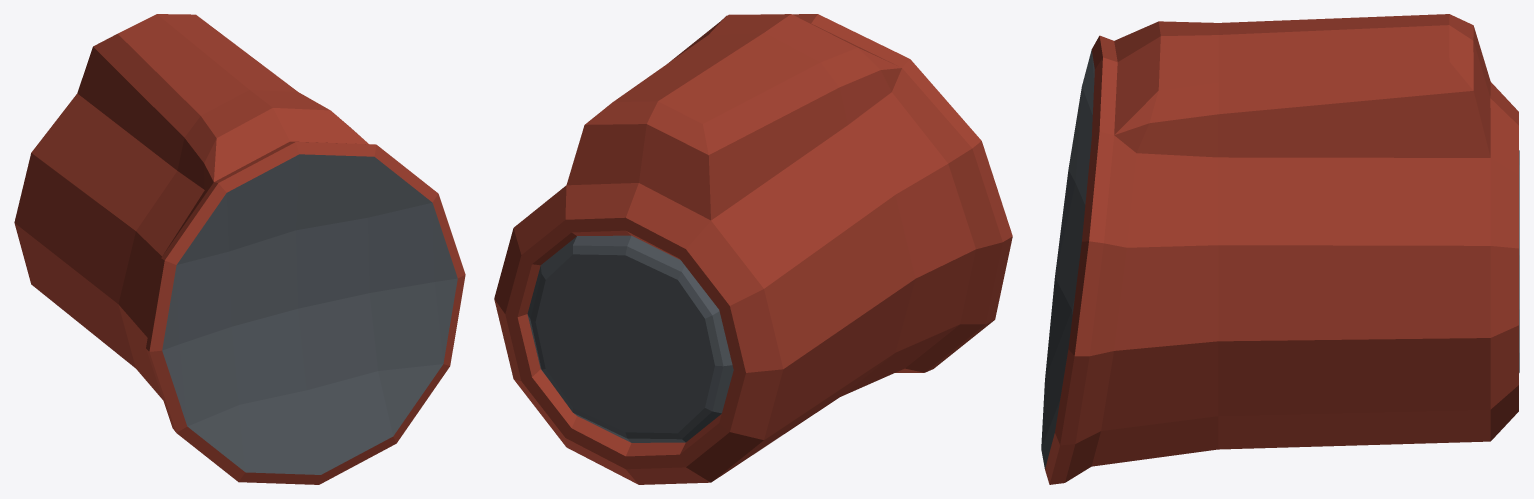
The model's file is Personal_Vehicle_04_Thruster_Red.fbx.
3 views of the same model, side by side, from view 1: azimuth 30°, elevation 25°; view 2: azimuth 150°, elevation 25°; view 3: azimuth 270°, elevation 25° (orthographic). The views are drawn at different scales.
Visible parts, largest first — view 1: Personal_Vehicle_04_Thruster_Red; view 2: Personal_Vehicle_04_Thruster_Red; view 3: Personal_Vehicle_04_Thruster_Red.
Part boxes in pixels (<box>): Personal_Vehicle_04_Thruster_Red: <box>14,14,465,484</box>; Personal_Vehicle_04_Thruster_Red: <box>494,14,1012,484</box>; Personal_Vehicle_04_Thruster_Red: <box>1041,14,1519,484</box>.
Bounding box in the file's own units: 80.27 × 85.42 × 84.6.
Materials: 1 (1 with a texture image).
